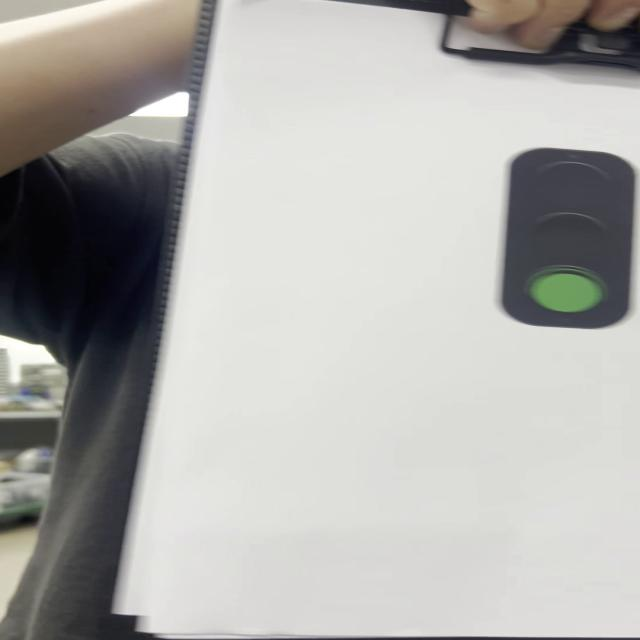green: (502, 148, 636, 329)
